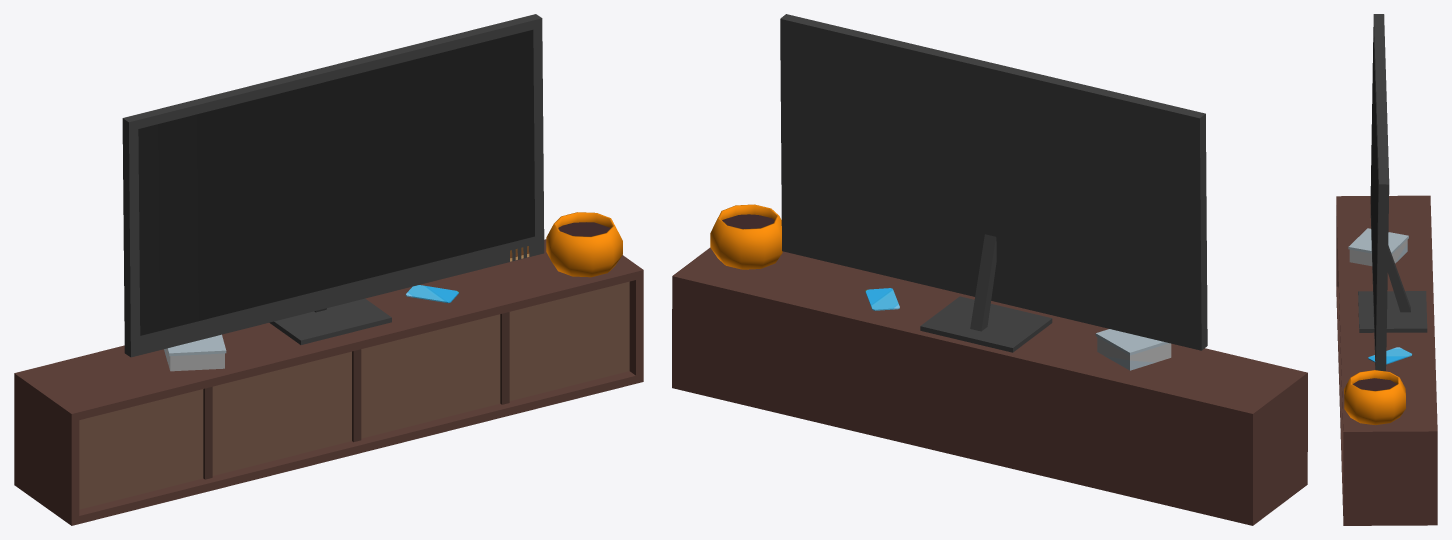
The model's file is LEDRack1.fbx.
3 renders of one model, left to right at view 1: azimuth 30°, elevation 25°; view 2: azimuth 150°, elevation 25°; view 3: azimuth 270°, elevation 25°, orthographic. The views are drawn at different scales.
Parts seen in each view (by area): view 1: LEDRack1; view 2: LEDRack1; view 3: LEDRack1.
Boxes of the visible parts, left/top/right/bottom form: LEDRack1: left=14, top=14, right=643, bottom=525; LEDRack1: left=672, top=14, right=1307, bottom=525; LEDRack1: left=1336, top=14, right=1437, bottom=525.
Bounding box in the file's own units: 73.07 × 44.49 × 13.25.
